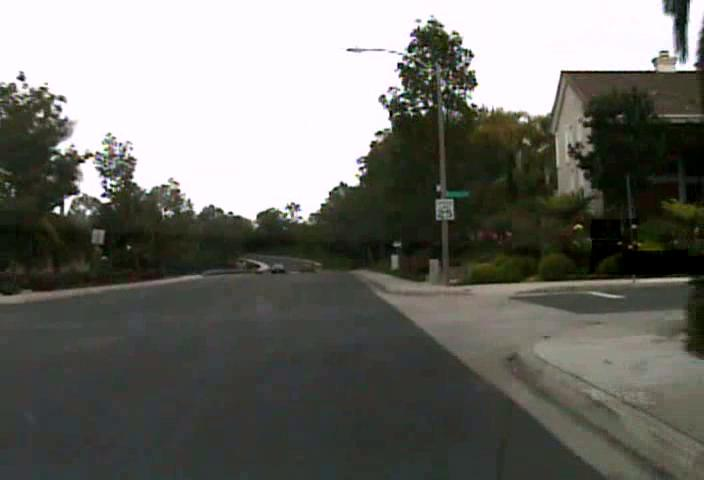speedLimit25: (434, 197, 455, 221)
